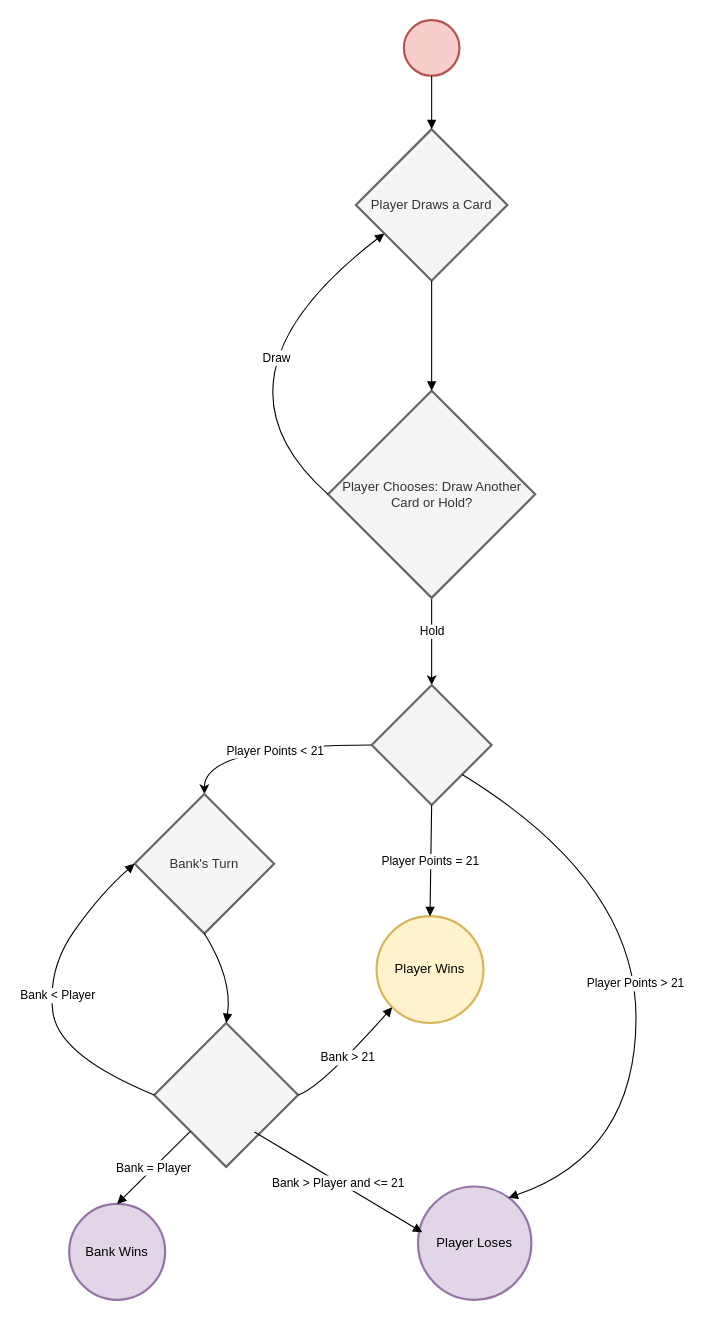
Image size: 704x1319. Some labels were removed from this diagram. Here are the shapes that lost their labels. From the top down, the box of each, then its label:
(402, 19, 460, 76): Start
(370, 683, 492, 806): Check Player's Points
(153, 1021, 299, 1167): Bank Draws a Card
